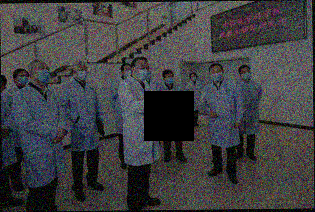with_mask: (35, 64, 51, 84), (137, 64, 152, 83), (15, 72, 30, 87), (76, 65, 89, 82), (210, 68, 224, 83), (241, 69, 253, 82), (164, 74, 176, 86), (124, 66, 134, 80), (191, 73, 198, 83)
